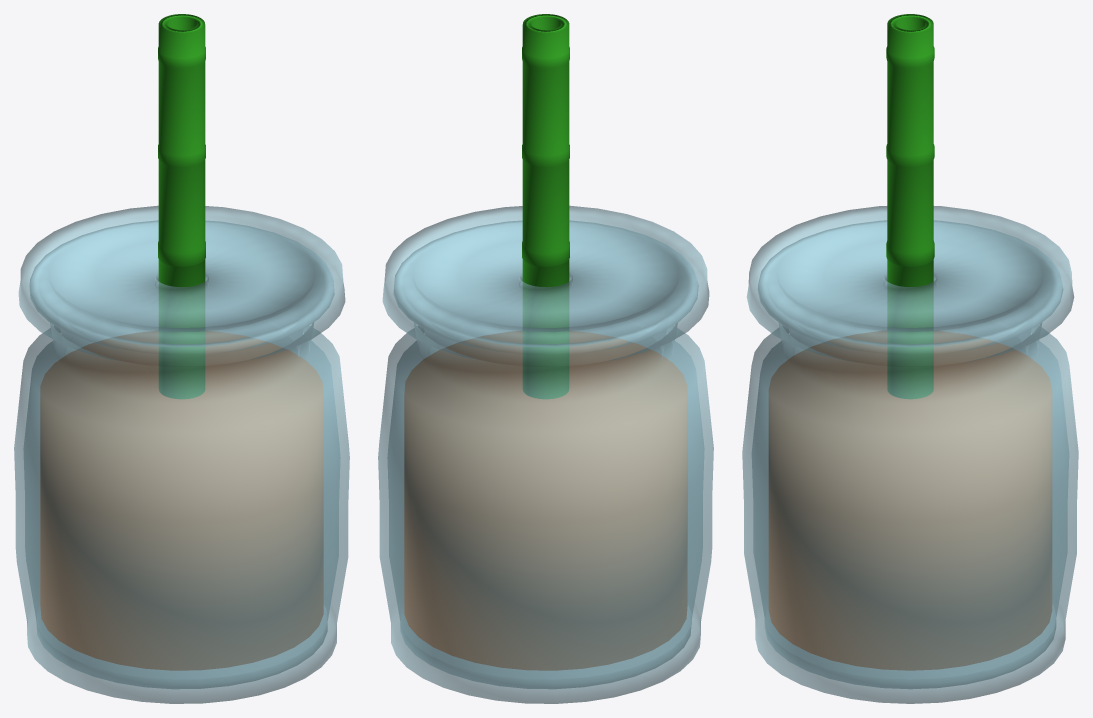
The model's file is Test_kopp_17.fbx.
3 views of the same model, side by side, from view 1: azimuth 30°, elevation 25°; view 2: azimuth 150°, elevation 25°; view 3: azimuth 270°, elevation 25° (orthographic).
Visible parts, largest first — view 1: Kopp, Drycken, Straw; view 2: Kopp, Drycken, Straw; view 3: Kopp, Drycken, Straw.
Part boxes in pixels (x1,y1,x2,y2): Kopp: (14, 205, 349, 703); Drycken: (40, 331, 323, 670); Straw: (158, 14, 205, 398); Kopp: (378, 205, 713, 703); Drycken: (404, 331, 687, 670); Straw: (522, 14, 569, 398); Kopp: (742, 206, 1078, 703); Drycken: (769, 331, 1051, 670); Straw: (886, 14, 934, 398).
Bounding box in the file's own units: 217 × 437 × 217.
